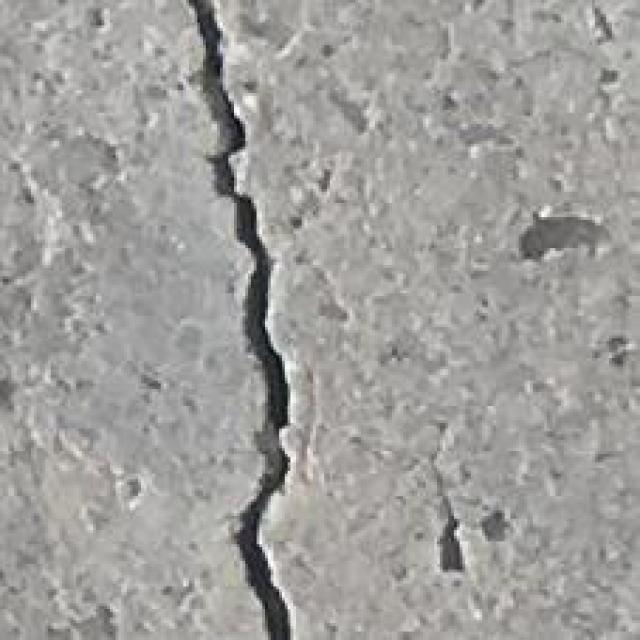Crack: (180, 0, 330, 640)
